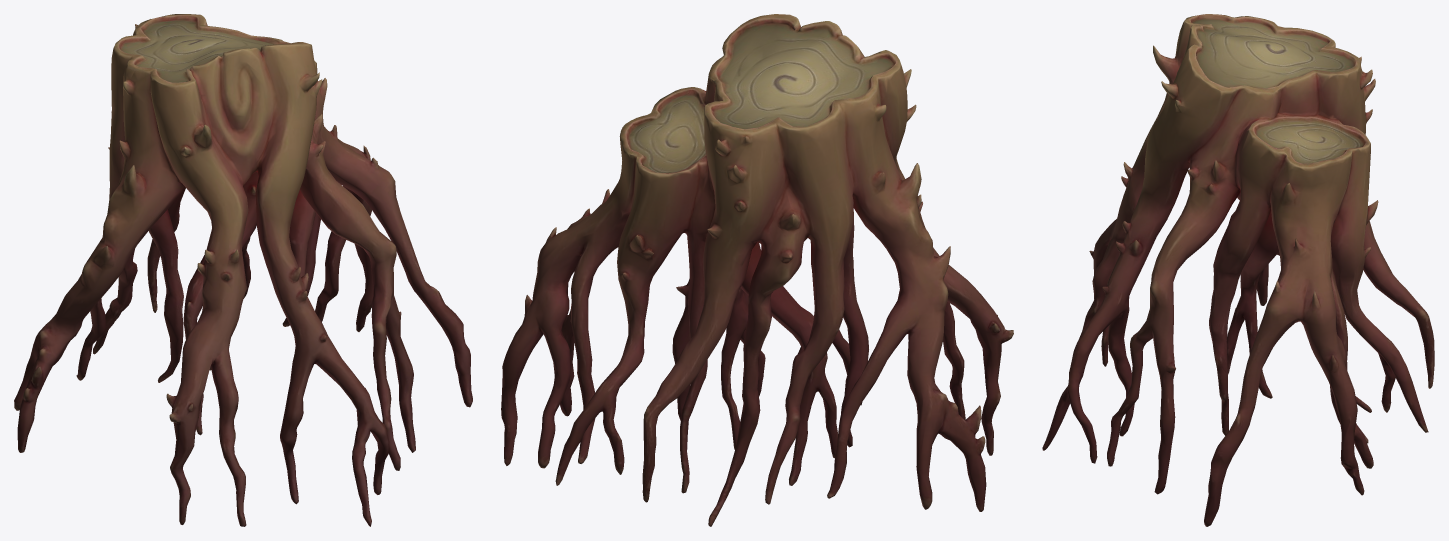
Rendered from bog_mangrove_tree_b.glb.
3 views of the same model, side by side, from view 1: azimuth 30°, elevation 25°; view 2: azimuth 150°, elevation 25°; view 3: azimuth 270°, elevation 25° (orthographic). The views are drawn at different scales.
Visible parts, largest first — view 1: SM_XBOG_STL_Mangrove_01B; view 2: SM_XBOG_STL_Mangrove_01B; view 3: SM_XBOG_STL_Mangrove_01B.
Boxes of the visible parts, x1,y1,x2,y2 form: SM_XBOG_STL_Mangrove_01B: [14, 14, 472, 526]; SM_XBOG_STL_Mangrove_01B: [501, 14, 1013, 526]; SM_XBOG_STL_Mangrove_01B: [1042, 14, 1434, 526].
Bounding box in the file's own units: 29.36 × 28.39 × 25.2.
Materials: 1 (1 with a texture image).
